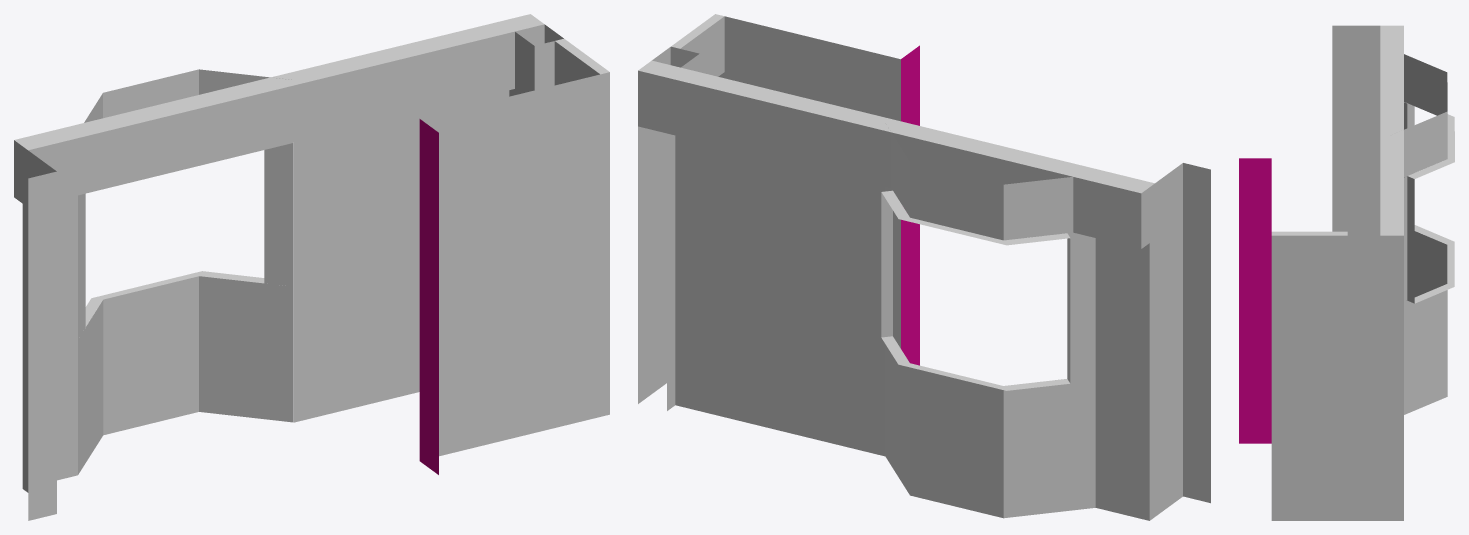
The model's file is SM_MB_Wall_1.fbx.
The picture shows the model from 3 angles, left to right: view 1: azimuth 30°, elevation 25°; view 2: azimuth 150°, elevation 25°; view 3: azimuth 270°, elevation 25°; orthographic projection. The views are drawn at different scales.
Parts seen in each view (by area): view 1: SM_MB_Wall_1; view 2: SM_MB_Wall_1; view 3: SM_MB_Wall_1.
Boxes of the visible parts, x1,y1,x2,y2 form: SM_MB_Wall_1: (14, 14, 609, 520); SM_MB_Wall_1: (638, 14, 1210, 520); SM_MB_Wall_1: (1239, 25, 1454, 520).
Bounding box in the file's own units: 458 × 275 × 189.
